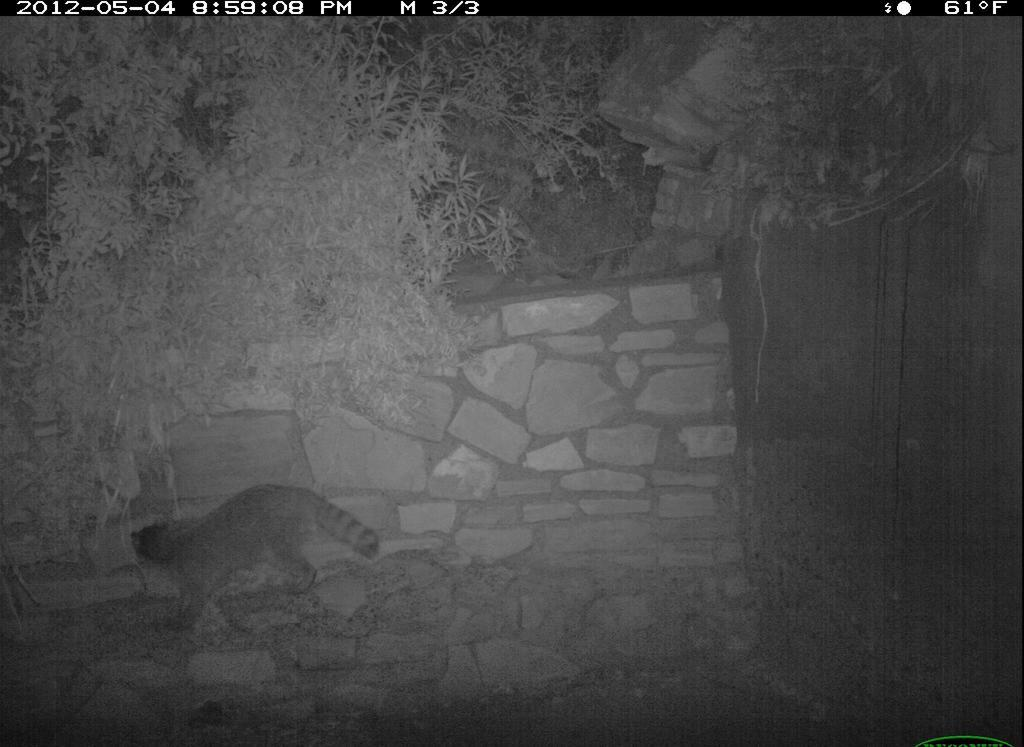raccoon: (122, 473, 392, 642)
